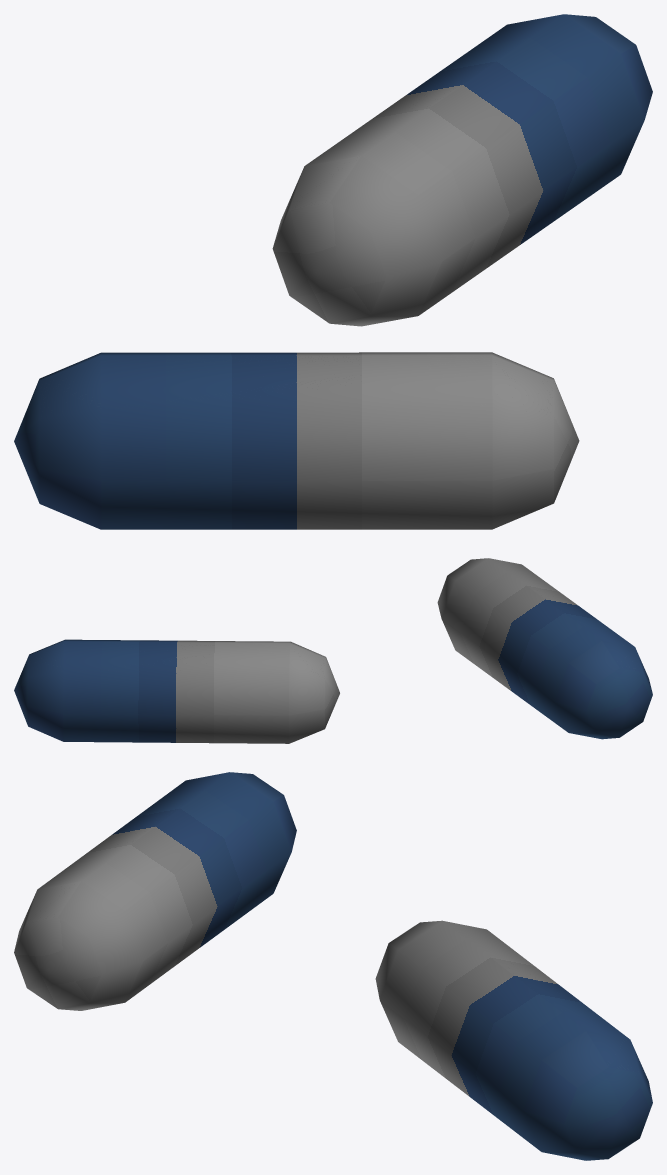
File: pills_2.glb
The picture shows the model from 3 angles, top to bottom: view 1: azimuth 30°, elevation 25°; view 2: azimuth 150°, elevation 25°; view 3: azimuth 270°, elevation 25°; orthographic projection. The views are drawn at different scales.
Parts seen in each view (by area): view 1: pills_2; view 2: pills_2; view 3: pills_2.
Boxes of the visible parts, x1=… form: pills_2: x1=14, y1=14, x2=652, y2=529; pills_2: x1=14, y1=558, x2=652, y2=743; pills_2: x1=14, y1=772, x2=652, y2=1160.
Bounding box in the file's own units: 0.0726 × 0.014 × 0.0624.
1 material, 1 textured.
